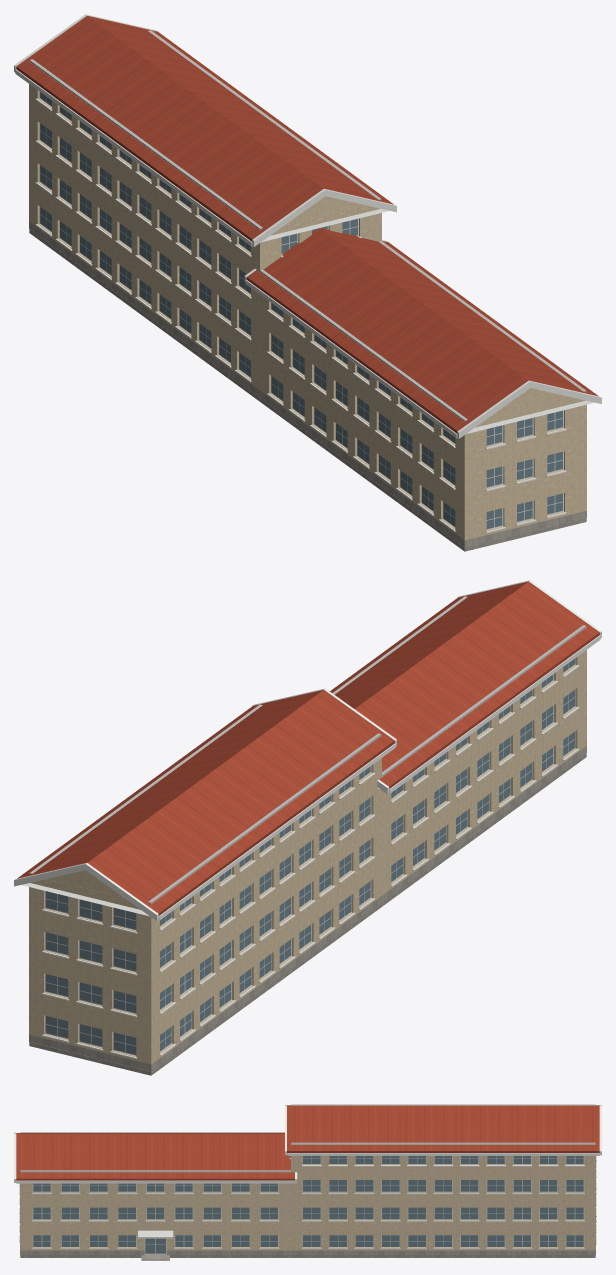
3 renders of one model, top to bottom at view 1: azimuth 30°, elevation 25°; view 2: azimuth 150°, elevation 25°; view 3: azimuth 270°, elevation 25°, orthographic. The views are drawn at different scales.
Parts seen in each view (by area): view 1: grade2__roof, grade2__tile, grade2__glass, grade2__trim, grade2__stone, grade2__frame, grade2__slab, grade2__soffit; view 2: grade2__roof, grade2__tile, grade2__glass, grade2__trim, grade2__stone, grade2__frame, grade2__slab; view 3: grade2__tile, grade2__roof, grade2__glass, grade2__trim, grade2__frame, grade2__stone, grade2__slab.
Part boxes in pixels (x1,y1,x2,y2): grade2__roof: (16,15,598,433); grade2__tile: (29,62,586,540); grade2__glass: (40,92,562,528); grade2__trim: (14,14,601,533); grade2__stone: (29,222,586,551); grade2__frame: (39,92,563,529); grade2__slab: (29,30,586,421); grade2__soffit: (261,209,594,433); grade2__roof: (17,581,599,915); grade2__tile: (29,628,586,1064); grade2__glass: (46,658,574,1054); grade2__trim: (14,580,601,1059); grade2__stone: (29,746,586,1075); grade2__frame: (45,658,575,1055); grade2__slab: (29,596,586,903); grade2__tile: (20,1144,595,1250); grade2__roof: (16,1105,599,1180); grade2__glass: (33,1156,583,1253); grade2__trim: (14,1105,601,1249); grade2__frame: (32,1156,584,1254); grade2__stone: (20,1250,595,1257); grade2__slab: (20,1104,595,1172).
Size of the model in its own units: 13.79 by 17.26 by 69.46.
Materials: 8 (3 with a texture image).
